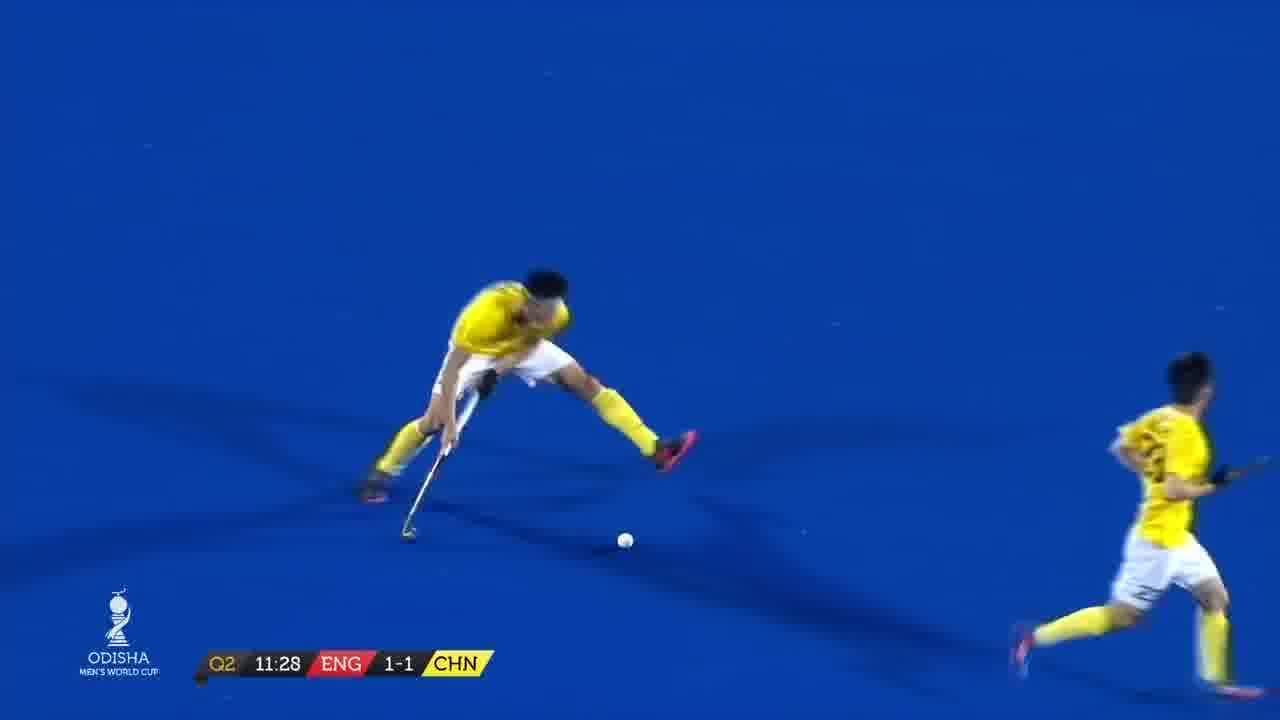ball: (616, 528, 638, 552)
